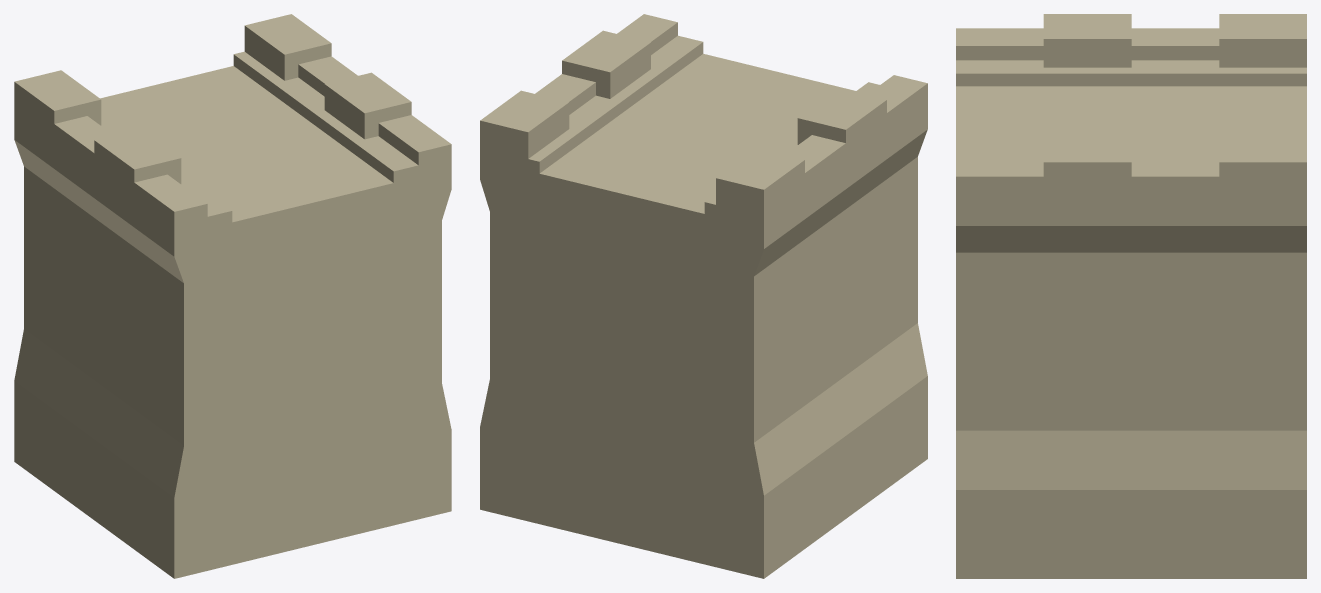
Rendered from wall.glb.
The picture shows the model from 3 angles, left to right: view 1: azimuth 30°, elevation 25°; view 2: azimuth 150°, elevation 25°; view 3: azimuth 270°, elevation 25°; orthographic projection. The views are drawn at different scales.
Size of the model in its own units: 10 by 13.1 by 10.
